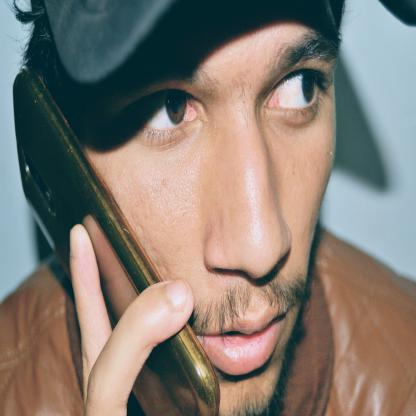Eye: (120, 75, 202, 148), (258, 56, 332, 126)
Mouth: (174, 290, 302, 386)
Nose: (201, 127, 295, 287)
